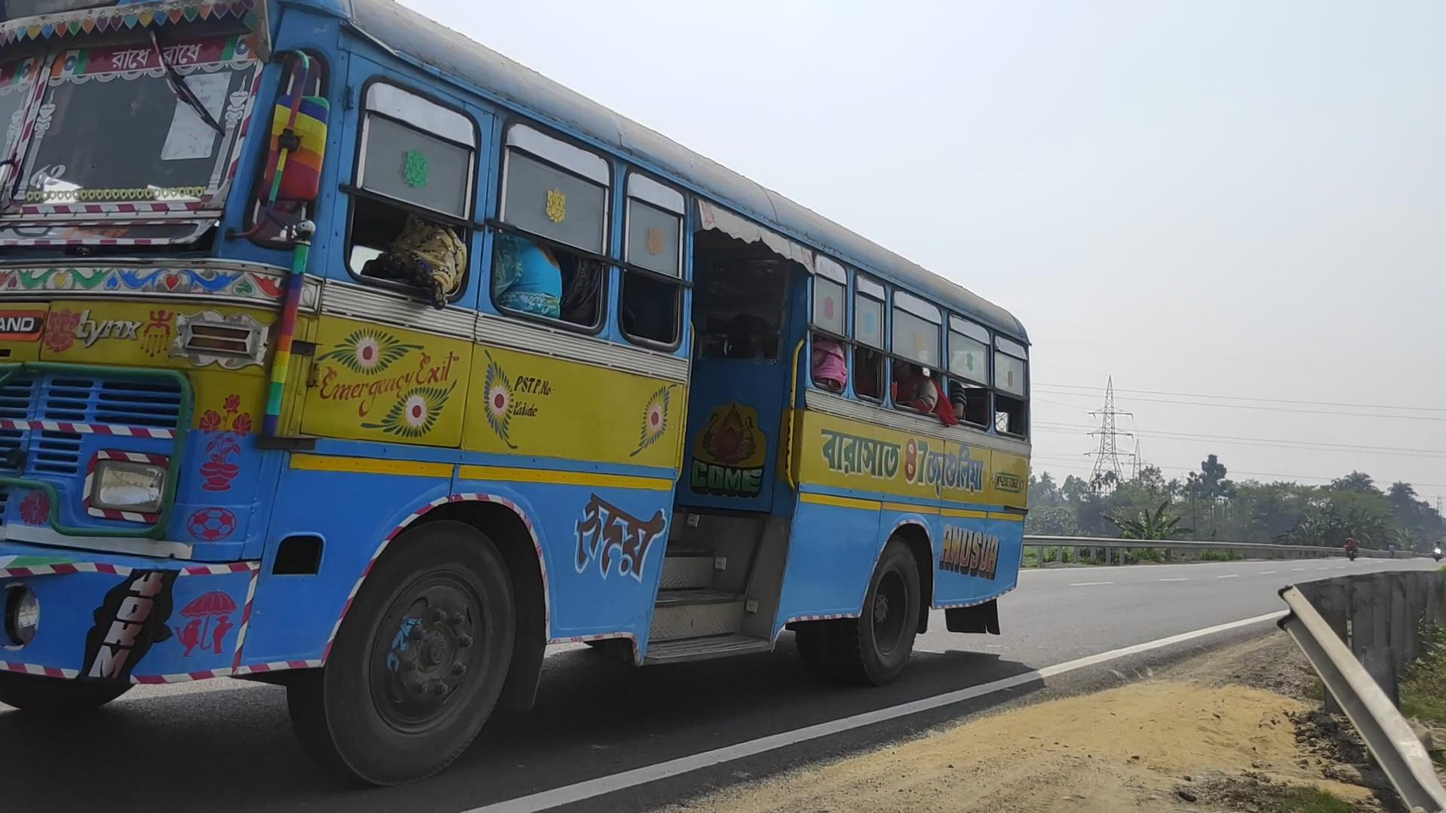Bus: (2, 1, 1033, 788)
